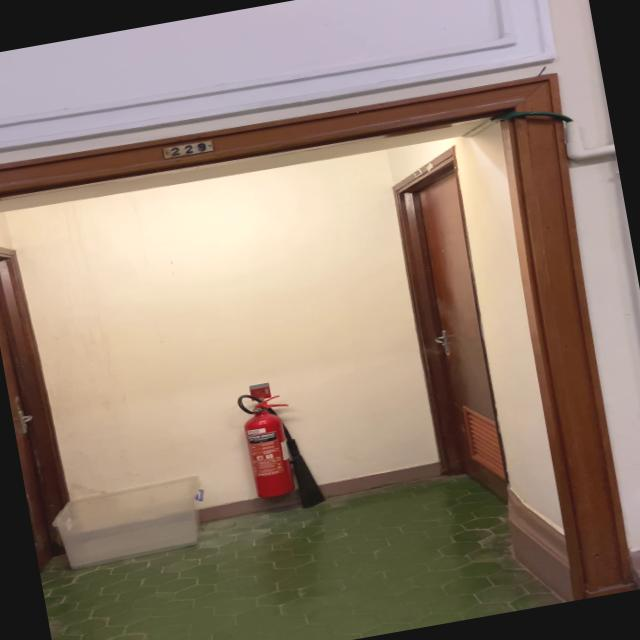room229: (160, 135, 218, 160)
